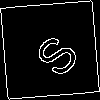S: (25, 25, 82, 81)
